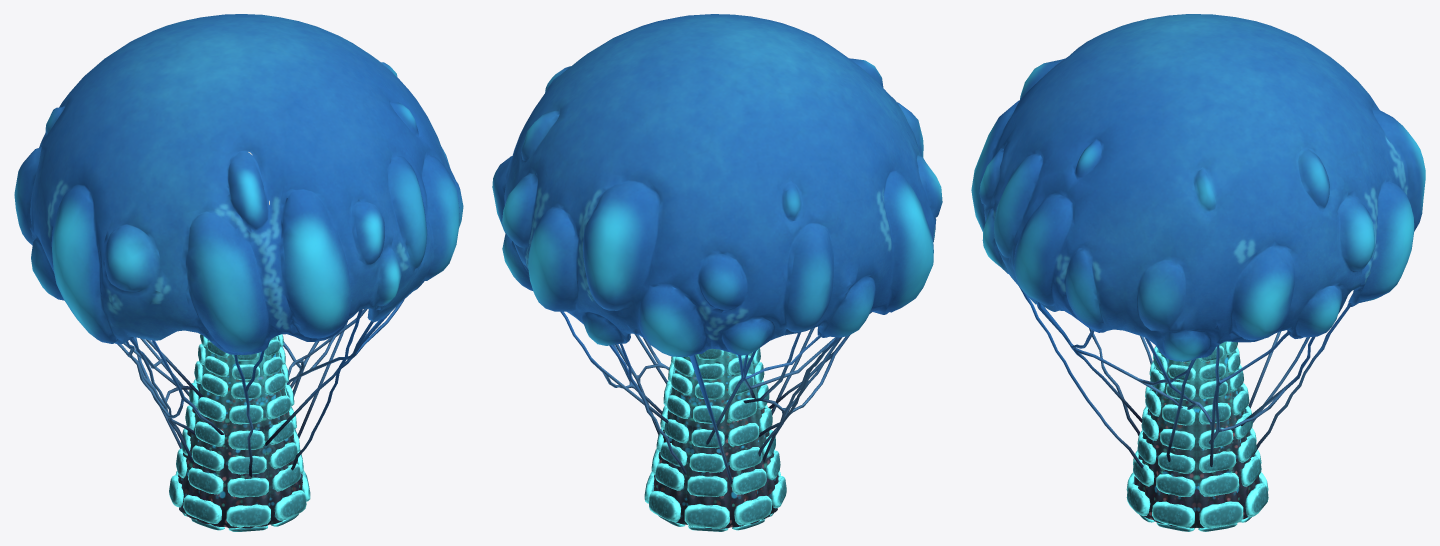
File: CupolaPlantLarge.fbx
The picture shows the model from 3 angles, left to right: view 1: azimuth 30°, elevation 25°; view 2: azimuth 150°, elevation 25°; view 3: azimuth 270°, elevation 25°; orthographic projection.
Visible parts, largest first — view 1: CupolaPlant_LOD0; view 2: CupolaPlant_LOD0; view 3: CupolaPlant_LOD0.
Part boxes in pixels (x1,y1,x2,y2): CupolaPlant_LOD0: (14, 14, 463, 531); CupolaPlant_LOD0: (492, 14, 942, 531); CupolaPlant_LOD0: (971, 14, 1425, 531).
Size of what is drawn, in the model's own units: 507 by 596 by 516.
